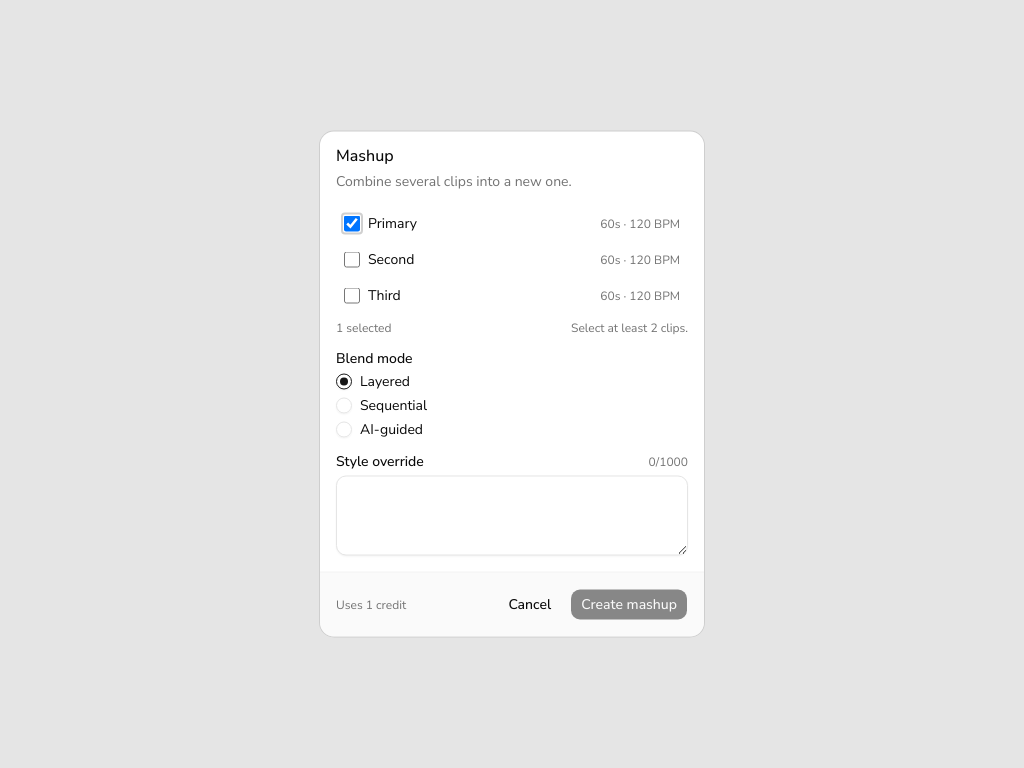
Test: MashupModal › enables submit once a second eligible clip is picked
Click the checkbox labelled "Second 60s · 120 BPM". click: [352, 260]
box: top-left (344, 252), bottom-right (360, 268)
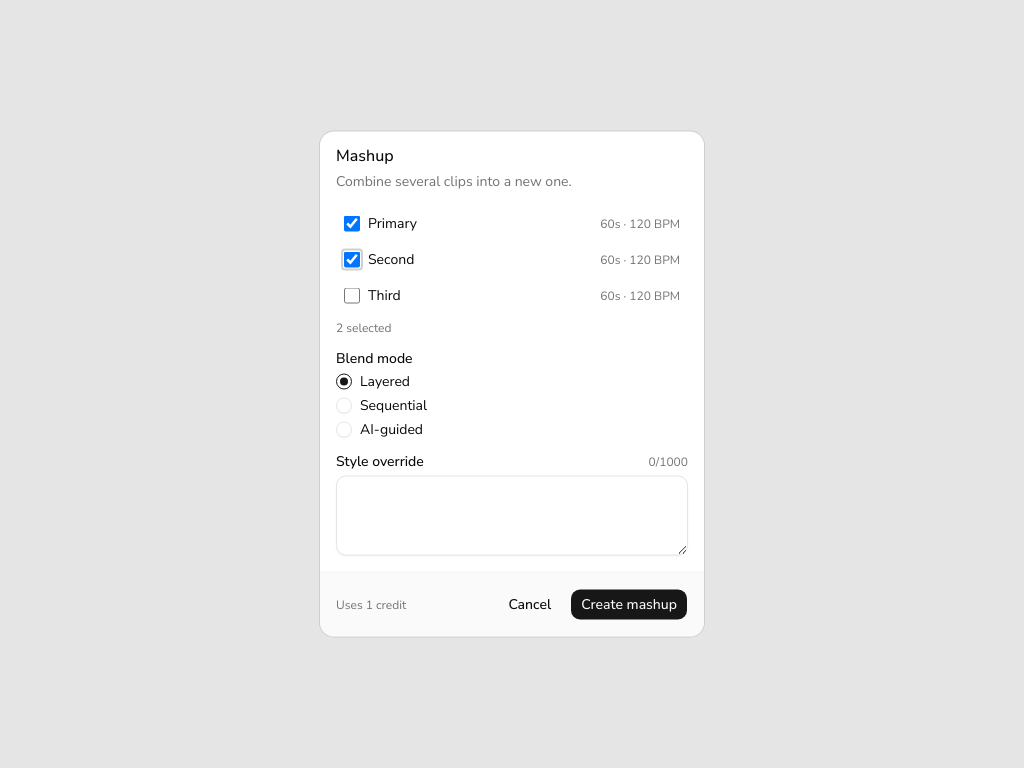
Now the button "Create mashup" is enabled, box top-left (570, 588), bottom-right (688, 620)
